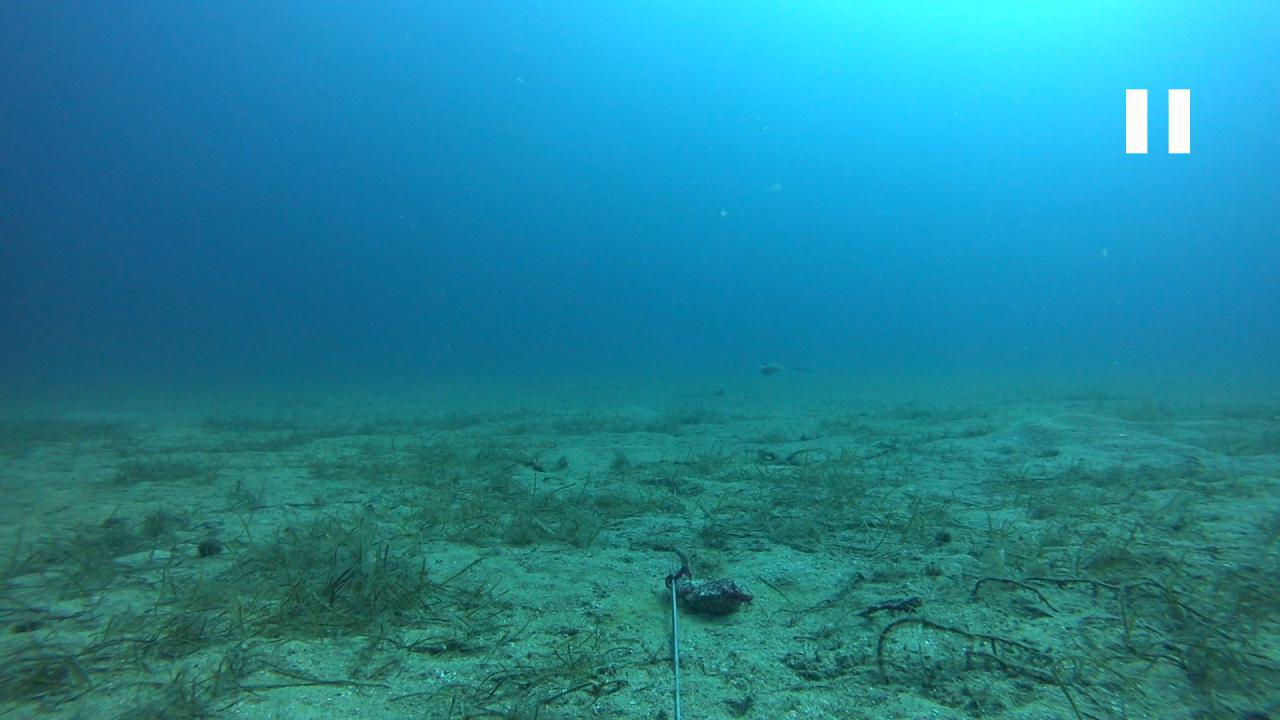dasyatis: (756, 358, 812, 375)
